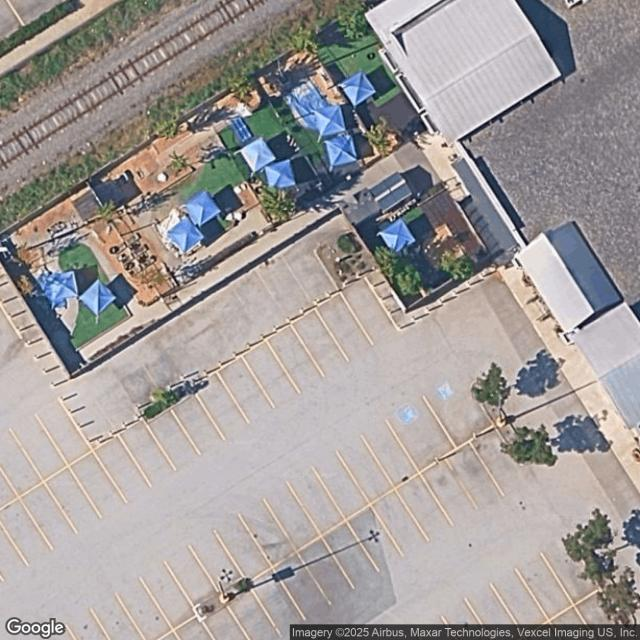lot_boundary: (1, 211, 640, 638)
